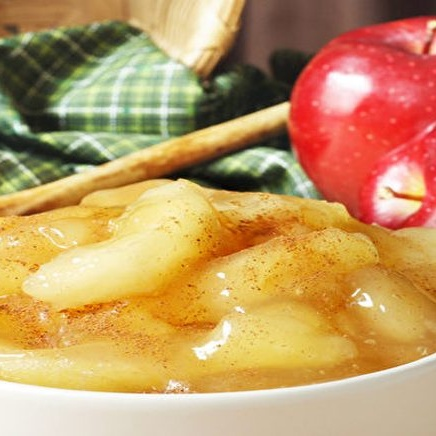apple: (291, 16, 436, 214)
